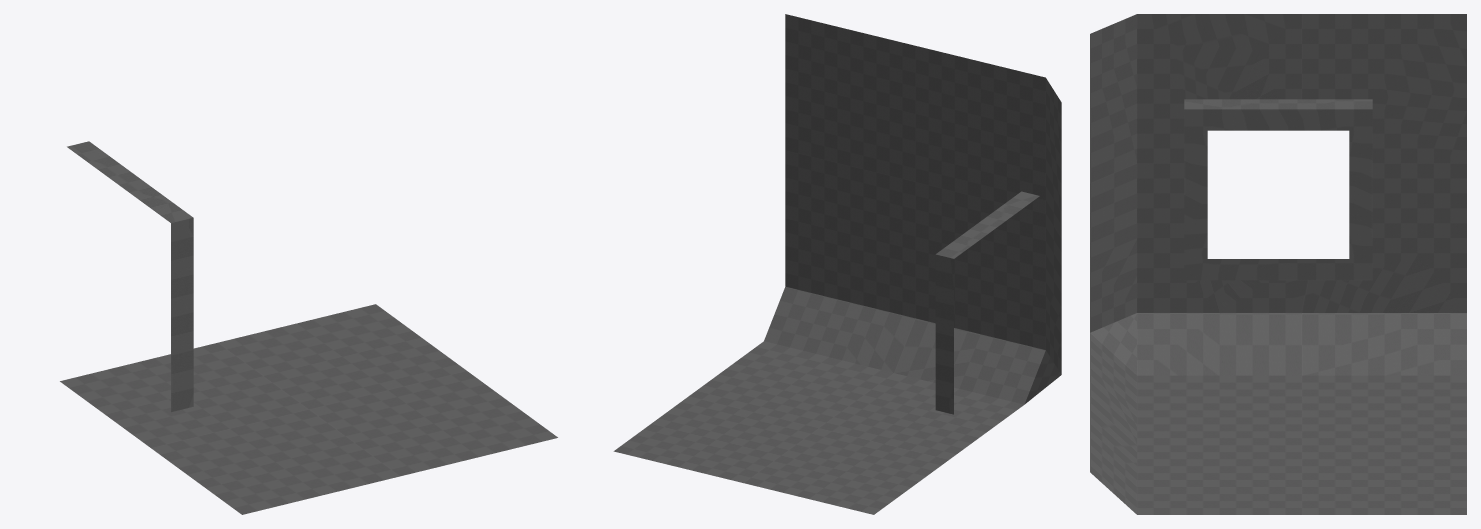
The picture shows the model from 3 angles, left to right: view 1: azimuth 30°, elevation 25°; view 2: azimuth 150°, elevation 25°; view 3: azimuth 270°, elevation 25°; orthographic projection. The views are drawn at different scales.
Parts seen in each view (by area): view 1: 1; view 2: 1; view 3: 1.
Boxes of the visible parts, x1,y1,x2,y2 form: 1: (60,141,557,514); 1: (613,14,1061,514); 1: (1090,14,1466,514).
Size of the model in its own units: 2 by 2 by 2.
Materials: 2 (2 with a texture image).
